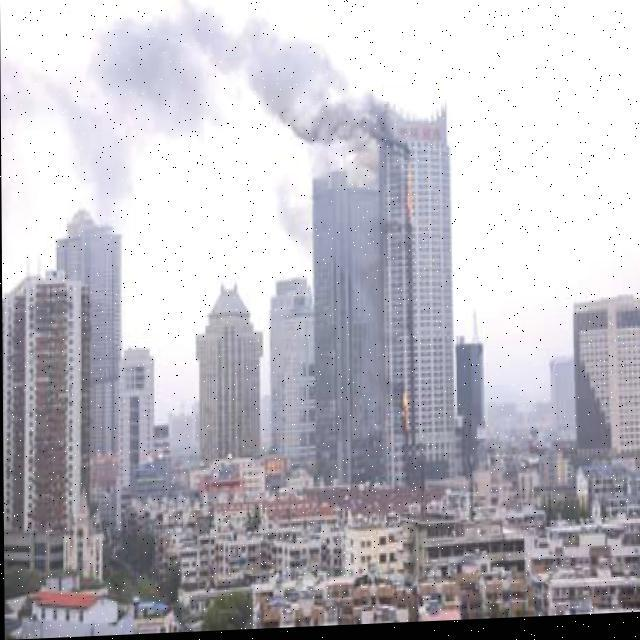Fire: (398, 159, 417, 228), (398, 390, 412, 440)
